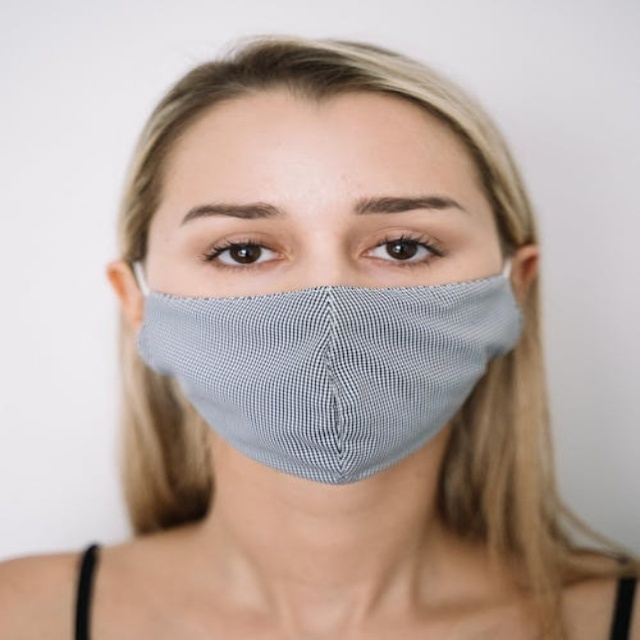Mascara: (128, 256, 527, 484)
Sin_gafas: (161, 186, 477, 281)
